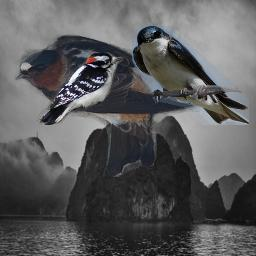Swallow: (14, 32, 209, 177), (132, 26, 249, 125)
Woodpecker: (37, 52, 124, 125)
